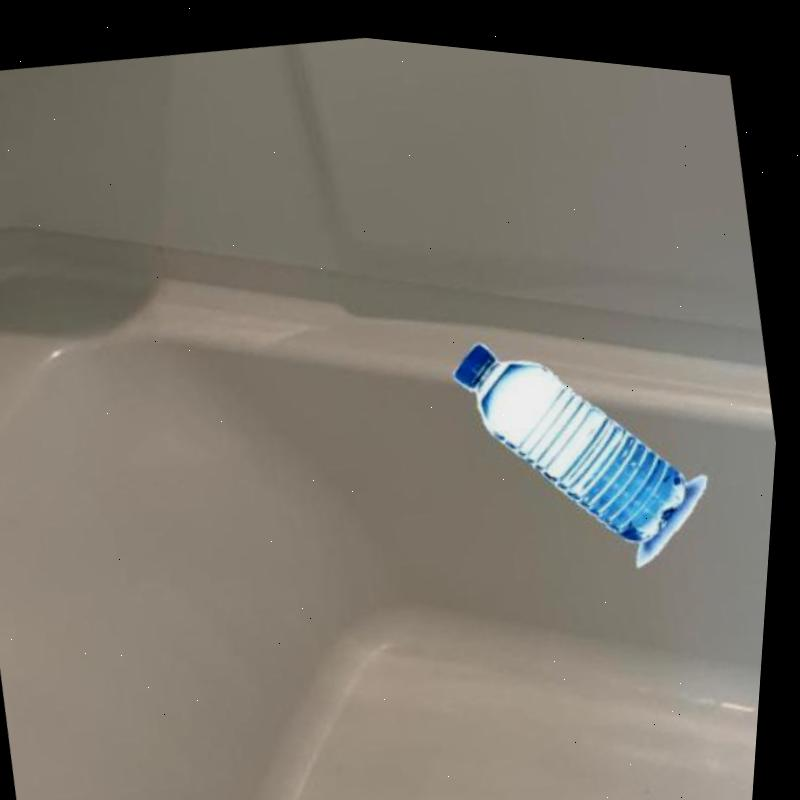botella: (441, 294, 711, 567)
